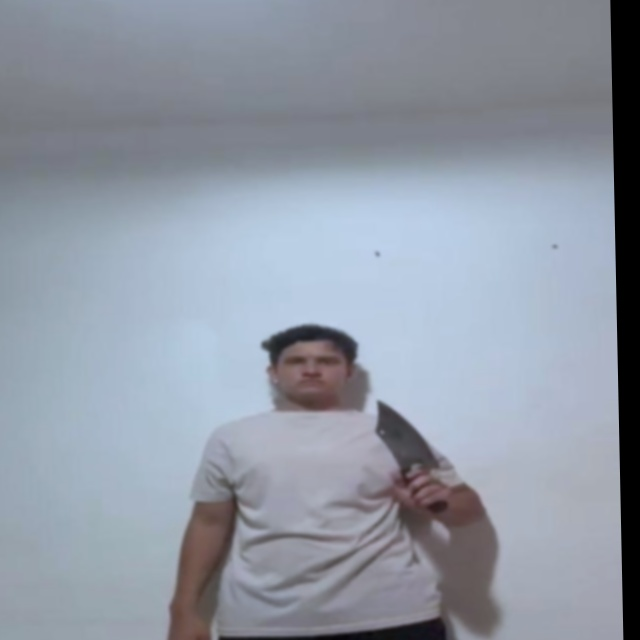Sharp-Object: (373, 402, 433, 467)
